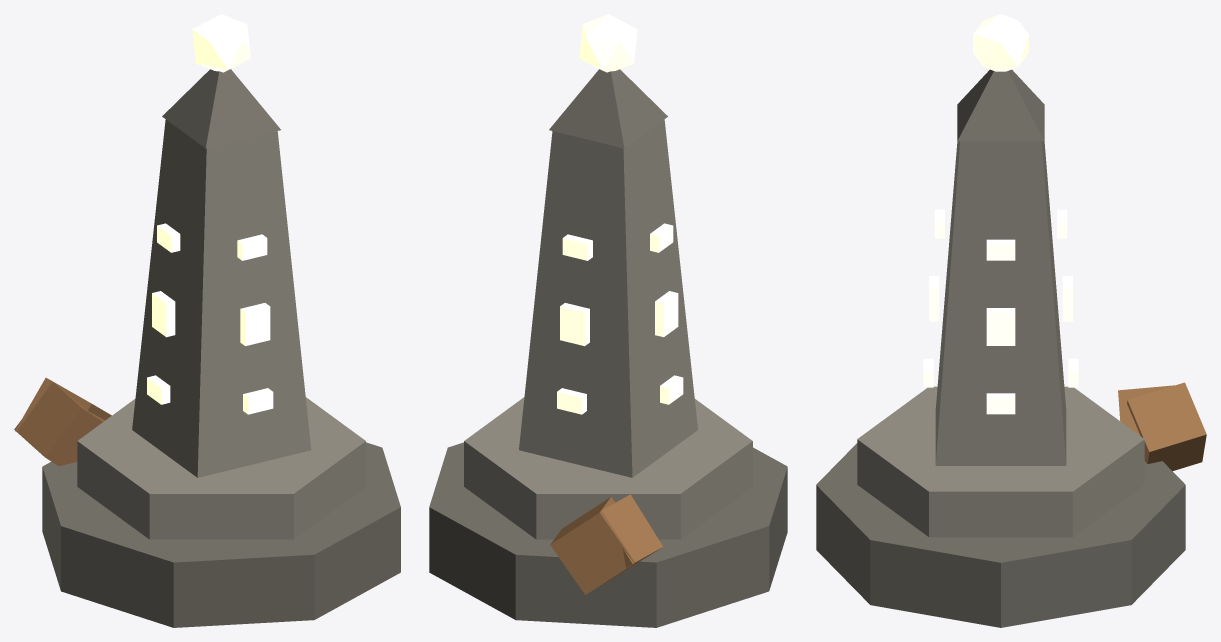
Rendered from waystone_landfill.glb.
3 views of the same model, side by side, from view 1: azimuth 30°, elevation 25°; view 2: azimuth 150°, elevation 25°; view 3: azimuth 270°, elevation 25° (orthographic).
Visible parts, largest first — view 1: waystone_landfill; view 2: waystone_landfill; view 3: waystone_landfill.
Boxes of the visible parts, x1=… form: waystone_landfill: x1=14, y1=14, x2=400, y2=627; waystone_landfill: x1=429, y1=14, x2=787, y2=627; waystone_landfill: x1=816, y1=14, x2=1206, y2=627.
Size of the model in its own units: 1.8 by 2.88 by 1.9.
